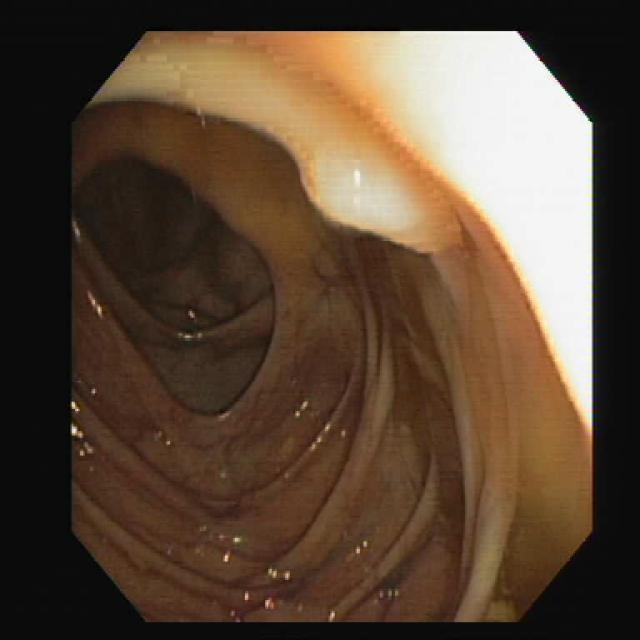tumor: (282, 107, 455, 251)
